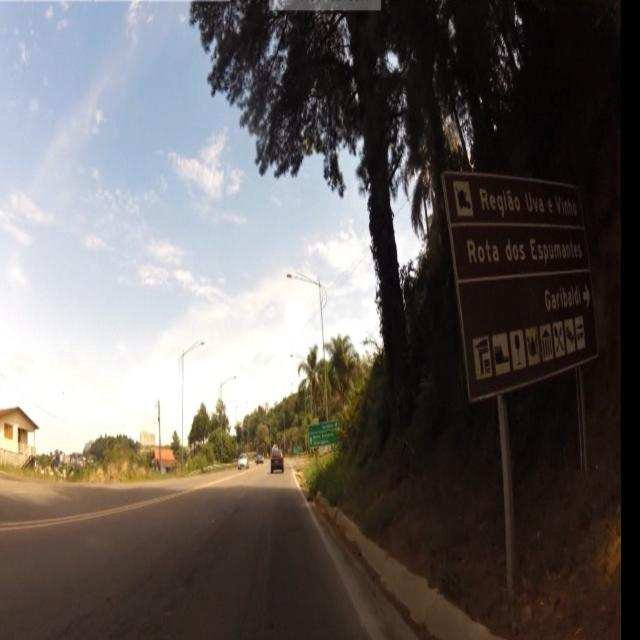TUR-4: (444, 170, 608, 416)
